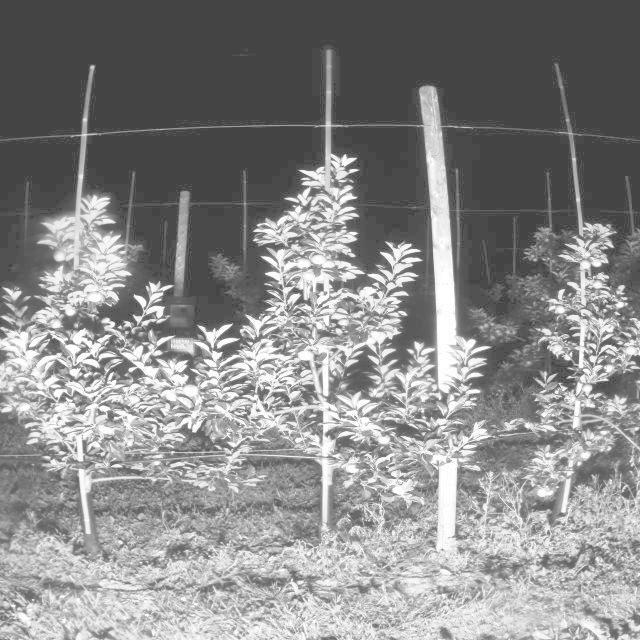Tree: (245, 156, 424, 541), (25, 196, 160, 564), (539, 219, 639, 519)
